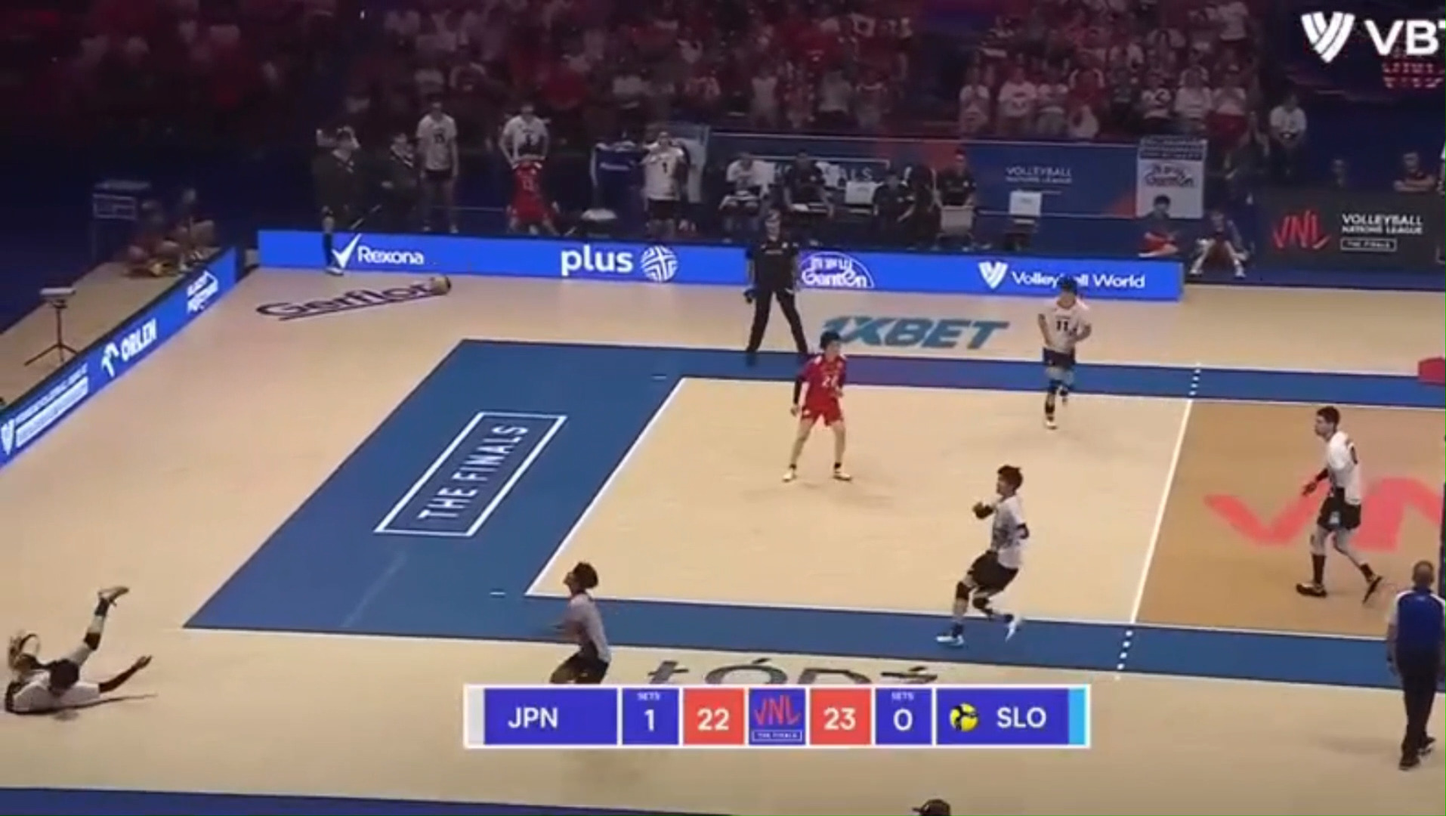ball: (428, 275, 451, 295)
player 1: (0, 586, 150, 715), (935, 465, 1030, 645), (1297, 406, 1380, 598), (785, 330, 851, 481), (1037, 277, 1092, 429), (549, 561, 610, 684), (1350, 484, 1351, 486)
referee: (1387, 561, 1445, 769)
